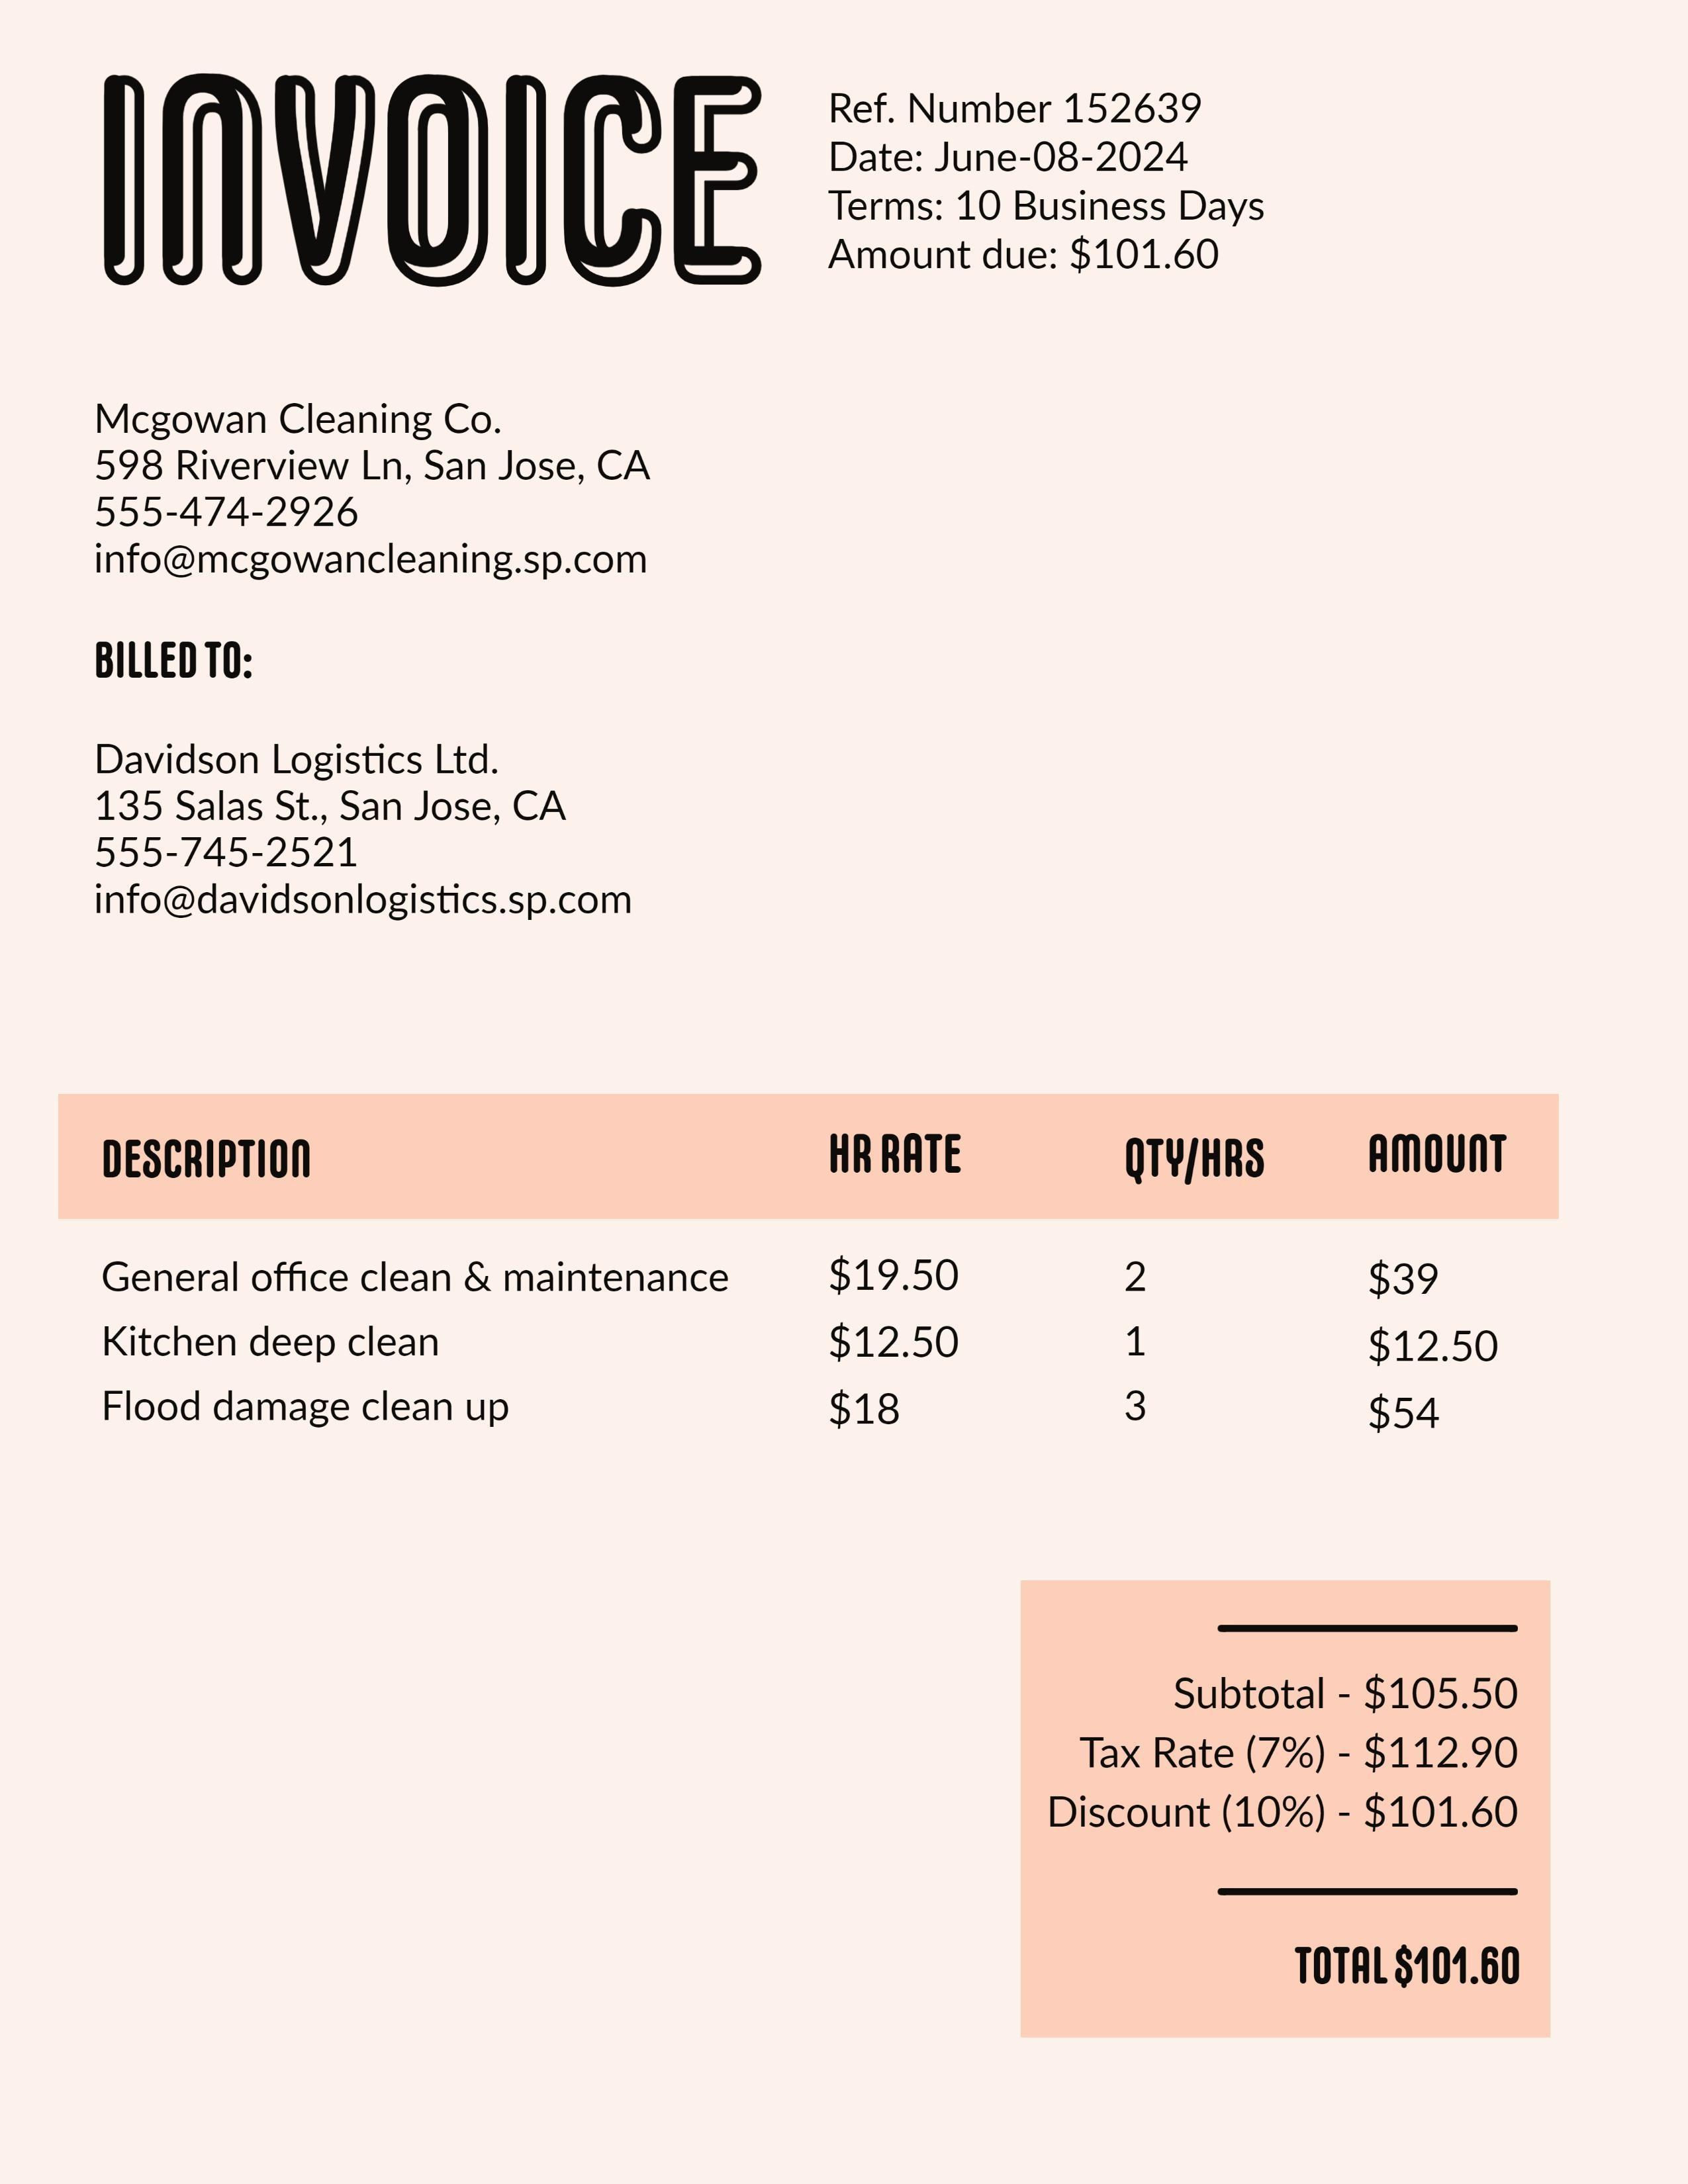ROI: (50, 1096, 1562, 1473), (1032, 1588, 1550, 2032), (80, 682, 649, 932), (80, 385, 679, 603), (810, 60, 1275, 294)
